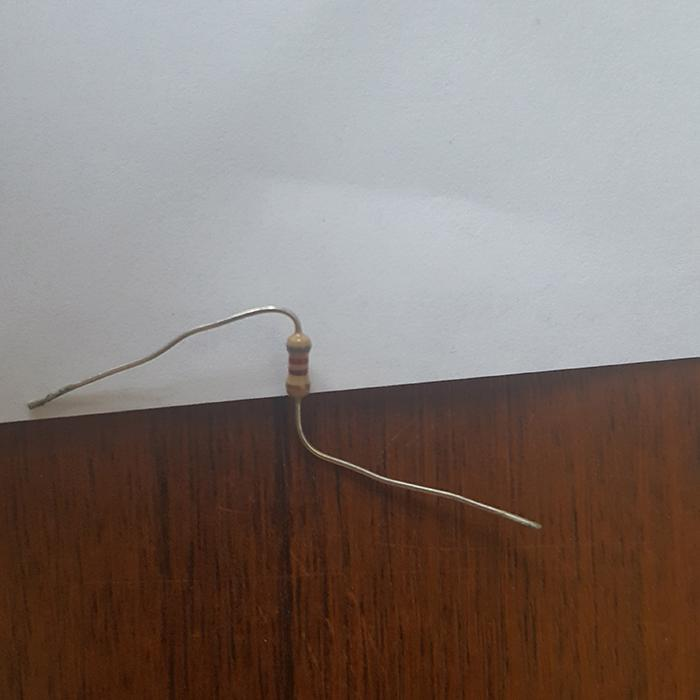resistor: (284, 329, 312, 398)
